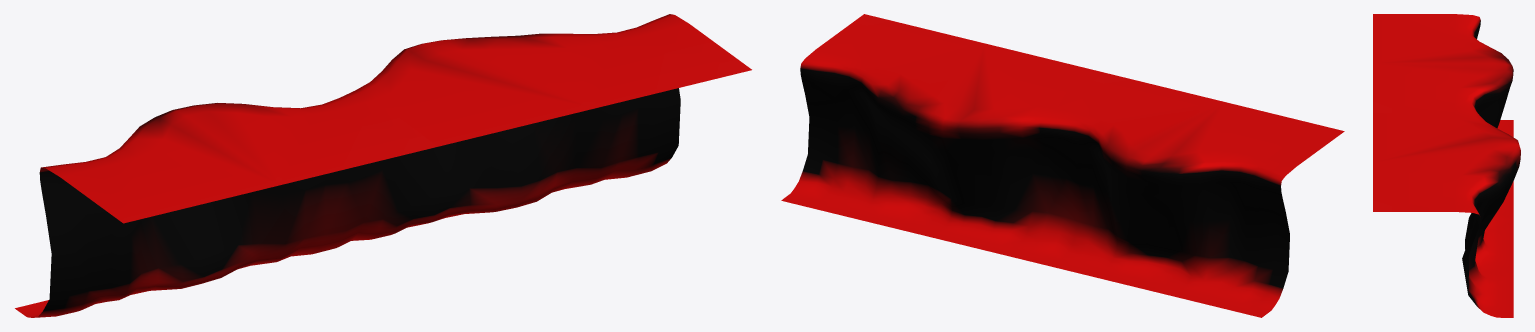
Rendered from GroundCliff02A 1M Background.fbx.
The picture shows the model from 3 angles, left to right: view 1: azimuth 30°, elevation 25°; view 2: azimuth 150°, elevation 25°; view 3: azimuth 270°, elevation 25°; orthographic projection. The views are drawn at different scales.
Parts seen in each view (by area): view 1: GroundCliff02A 1M Background; view 2: GroundCliff02A 1M Background; view 3: GroundCliff02A 1M Background.
Boxes of the visible parts, x1,y1,x2,y2 form: GroundCliff02A 1M Background: (15,14,751,317); GroundCliff02A 1M Background: (781,14,1344,317); GroundCliff02A 1M Background: (1373,14,1520,317).
Size of the model in its own units: 4 by 1 by 1.26.
